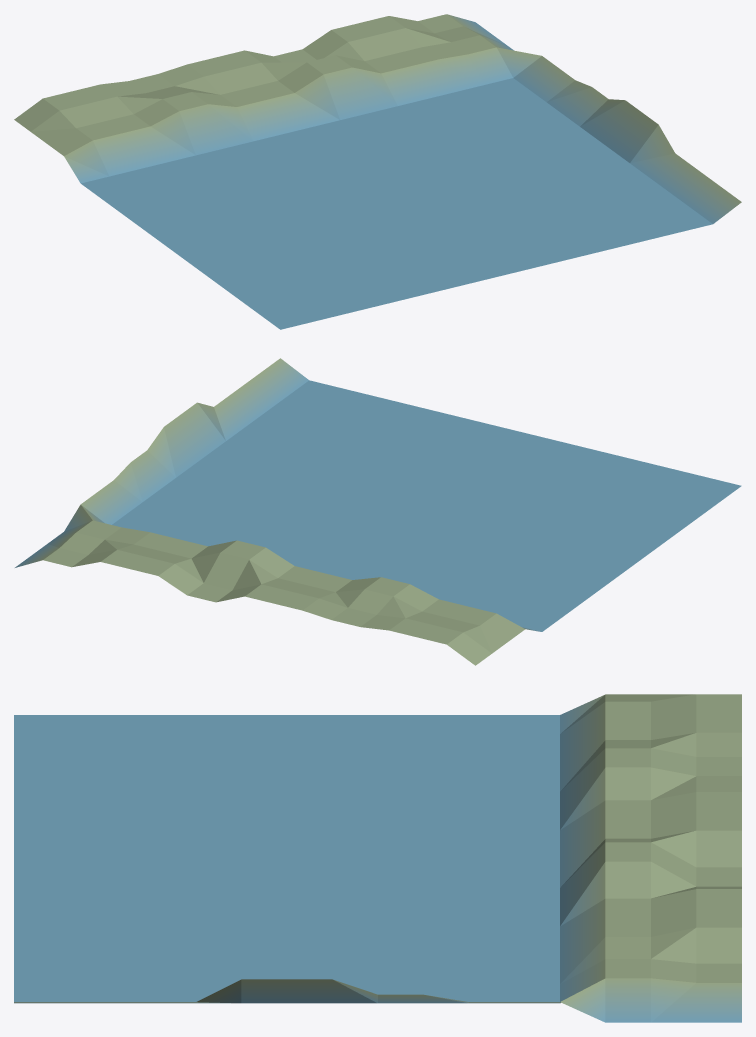
3 renders of one model, top to bottom at view 1: azimuth 30°, elevation 25°; view 2: azimuth 150°, elevation 25°; view 3: azimuth 270°, elevation 25°, orthographic. The views are drawn at different scales.
Bounding box in the file's own units: 32 × 2.22 × 32.
